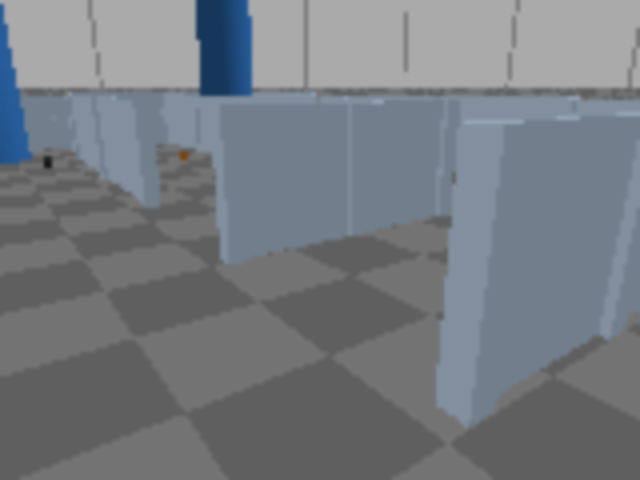person: (0, 0, 31, 165)
